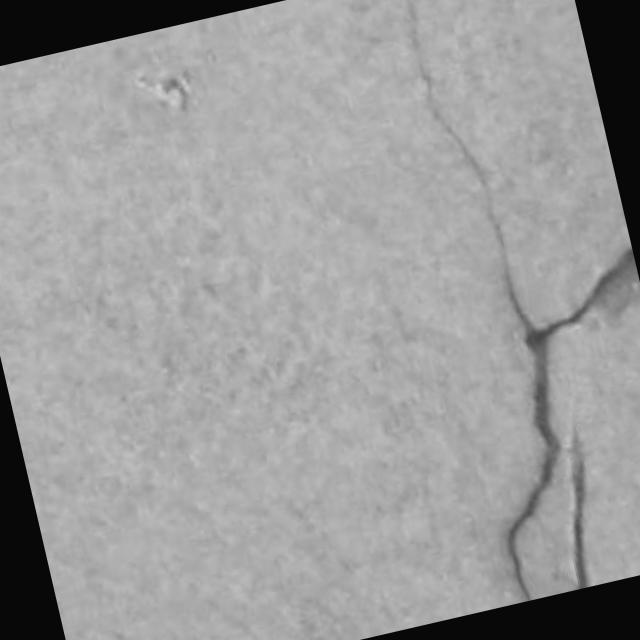crack: (406, 0, 639, 600), (505, 249, 636, 600), (505, 338, 560, 600), (570, 433, 587, 588)
